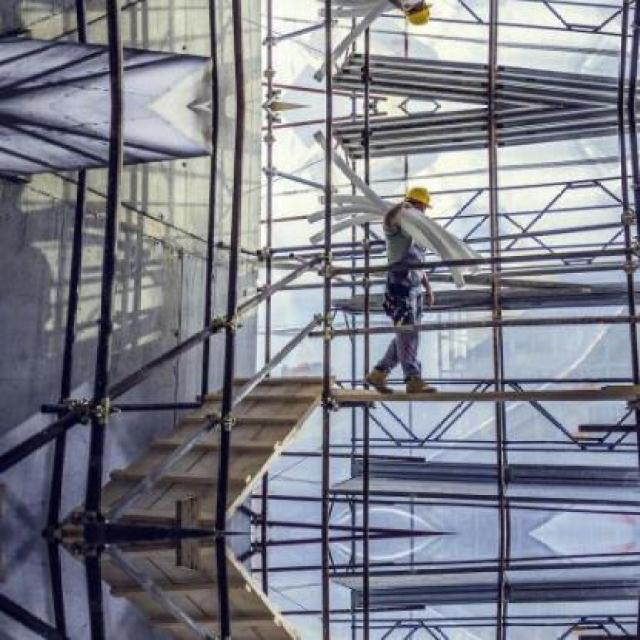hat: (406, 186, 432, 206)
